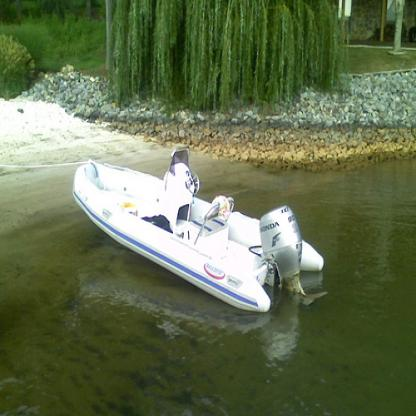boat: (72, 146, 324, 314)
